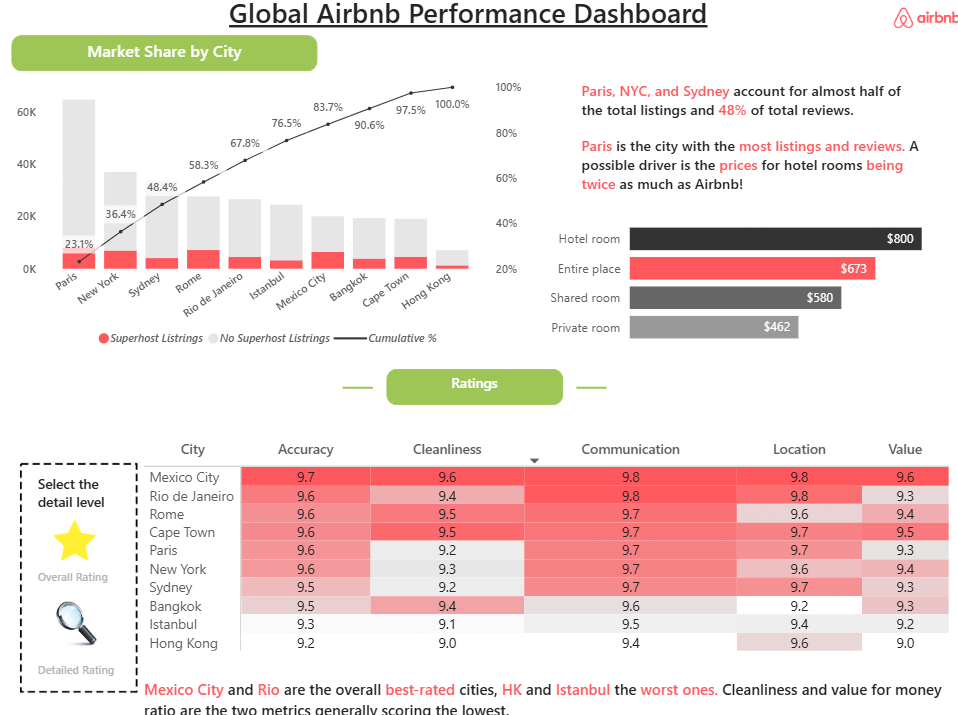

What the dashboard file says about the page in this screenshot:
{"tool":"powerbi","page":{"name":"Ratings","canvas":[960,720],"ordinal":1},"visuals":[{"type":"textbox","box":[234.8,0,490.4,45.2],"z":0},{"type":"image","box":[885.3,11,74.6,34.2],"z":1000},{"type":"image","box":[60.7,509.9,55.8,58.7],"z":1000,"group":"g1"},{"type":"textbox","box":[26.9,45.2,299.6,35.5],"z":2000},{"type":"textbox","box":[542.9,277.6,299.6,63.6],"z":3000},{"type":"textbox","box":[47.7,560,89.3,35.5],"z":3000,"group":"g1"},{"type":"lineStackedColumnComboChart","fields":{"Category":["Listings.city"],"Y":["Listings.Superhost Listrings","Listings.NO Superhost Listrings"],"Y2":["Listings.Cumulative %"]},"box":[26.9,80.7,505,278.8],"z":4000},{"type":"barChart","fields":{"Category":["Listings.room_type"],"Y":["Listings.Avg Price"]},"box":[542.9,209.1,417,150.4],"z":5000},{"type":"textbox","box":[579.6,84.4,343.6,132.1],"z":6000},{"type":"textbox","box":[393.8,371.3,172.4,35.5],"z":7000},{"type":"shape","box":[351,364.4,29.3,51.4],"z":8000},{"type":"shape","box":[579.6,364.4,29.3,51.4],"z":9000},{"type":"textbox","box":[47.7,469.6,90.5,45.2],"z":10000},{"type":"image","box":[0,431.7,185.9,288.6],"z":11000},{"type":"pivotTable","fields":{"Rows":["Listings.city"],"Values":["Listings.Accuracy","Listings.Cleanliness","Listings.Communication","Listings.Location","Listings.Value"]},"box":[151.6,435.3,808.3,234.8],"z":13000},{"type":"group","id":"g1","title":"Group 1","box":[47.7,509.9,89.3,85.6],"z":14000},{"type":"image","box":[62.4,593.1,55,57.5],"z":14000,"group":"g2"},{"type":"group","id":"g2","title":"Group 2","box":[47.7,593.1,91.7,86.8],"z":15000},{"type":"textbox","box":[151.6,670.1,808.3,50.1],"z":16000},{"type":"textbox","box":[47.7,650.6,91.7,29.3],"z":17000,"group":"g2"}]}

Visuals, with their boxes in screenshot pixels (x1, y1, x2, y2), scaled from the page's 960x720 canvas onto the 958x715 screenshot:
textbox: (234, 0, 724, 45)
image: (883, 11, 957, 45)
image: (61, 506, 116, 565)
textbox: (27, 45, 326, 80)
textbox: (542, 276, 841, 339)
textbox: (48, 556, 137, 591)
lineStackedColumnComboChart - Listings.city x Listings.Superhost Listrings: (27, 80, 531, 357)
barChart - Listings.room_type x Listings.Avg Price: (542, 208, 957, 357)
textbox: (578, 84, 921, 215)
textbox: (393, 369, 565, 404)
shape: (350, 362, 380, 413)
shape: (578, 362, 608, 413)
textbox: (48, 466, 138, 511)
image: (0, 429, 186, 714)
pivotTable - Listings.city x Listings.Accuracy: (151, 432, 957, 665)
"Group 1" group: (48, 506, 137, 591)
image: (62, 589, 117, 646)
"Group 2" group: (48, 589, 139, 675)
textbox: (151, 665, 957, 714)
textbox: (48, 646, 139, 675)
